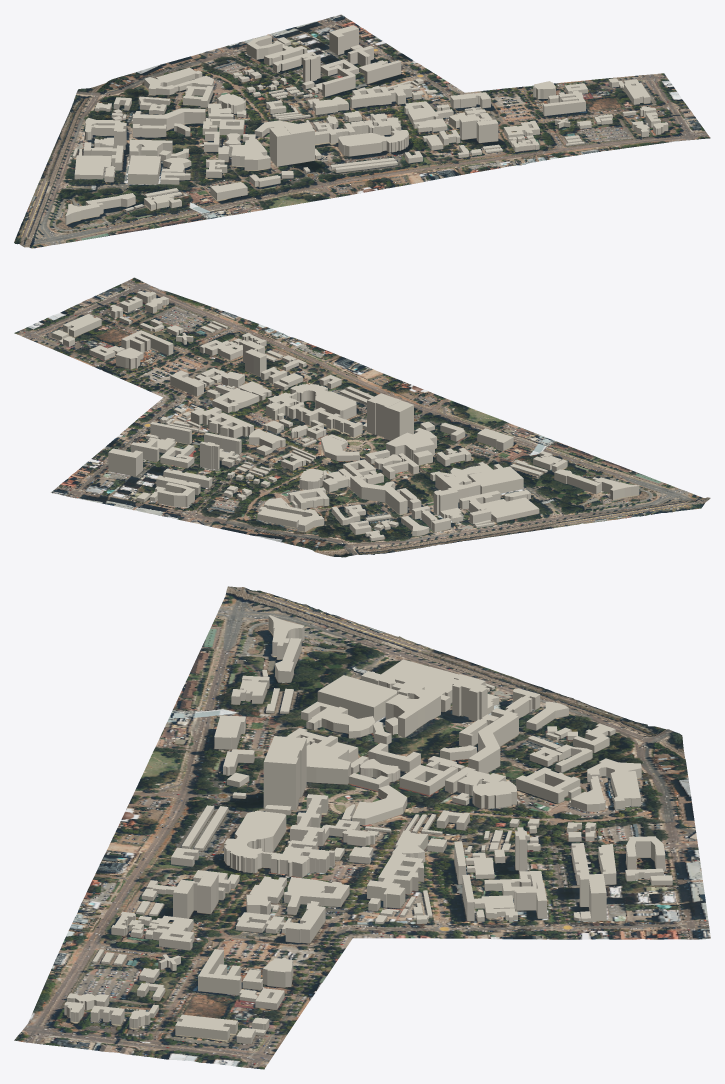
File: 3dmodel.gltf
3 renders of one model, top to bottom at view 1: azimuth 30°, elevation 25°; view 2: azimuth 150°, elevation 25°; view 3: azimuth 270°, elevation 25°, orthographic. The views are drawn at different scales.
Visible parts, largest first — view 1: filledGround, fin_Buildings_min_max; view 2: filledGround, fin_Buildings_min_max; view 3: filledGround, fin_Buildings_min_max.
Boxes of the visible parts, x1,y1,x2,y2 form: filledGround: [14, 14, 710, 248]; fin_Buildings_min_max: [65, 25, 668, 224]; filledGround: [14, 277, 710, 557]; fin_Buildings_min_max: [51, 291, 639, 541]; filledGround: [14, 586, 710, 1069]; fin_Buildings_min_max: [64, 615, 672, 1043].
Size of the model in its own units: 1545 by 85.55 by 923.
Materials: 2 (1 with a texture image).
